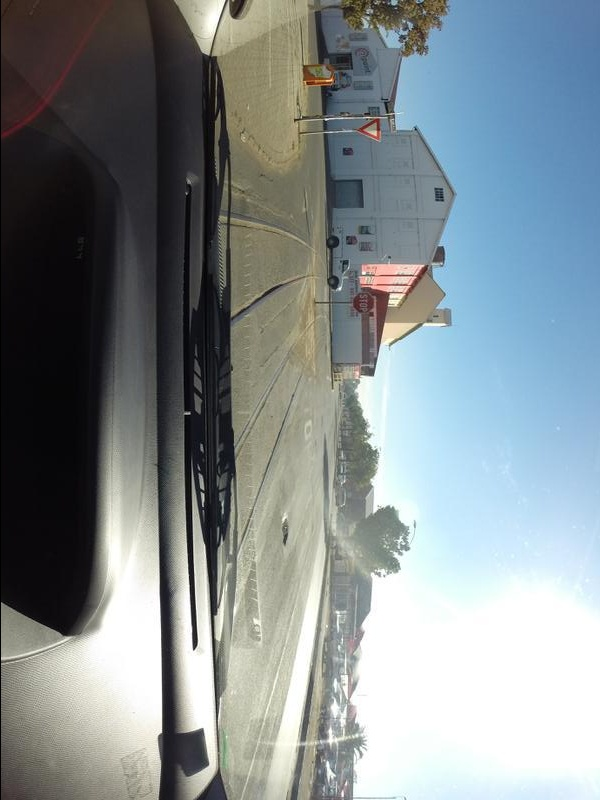pothole: (271, 515, 294, 552)
